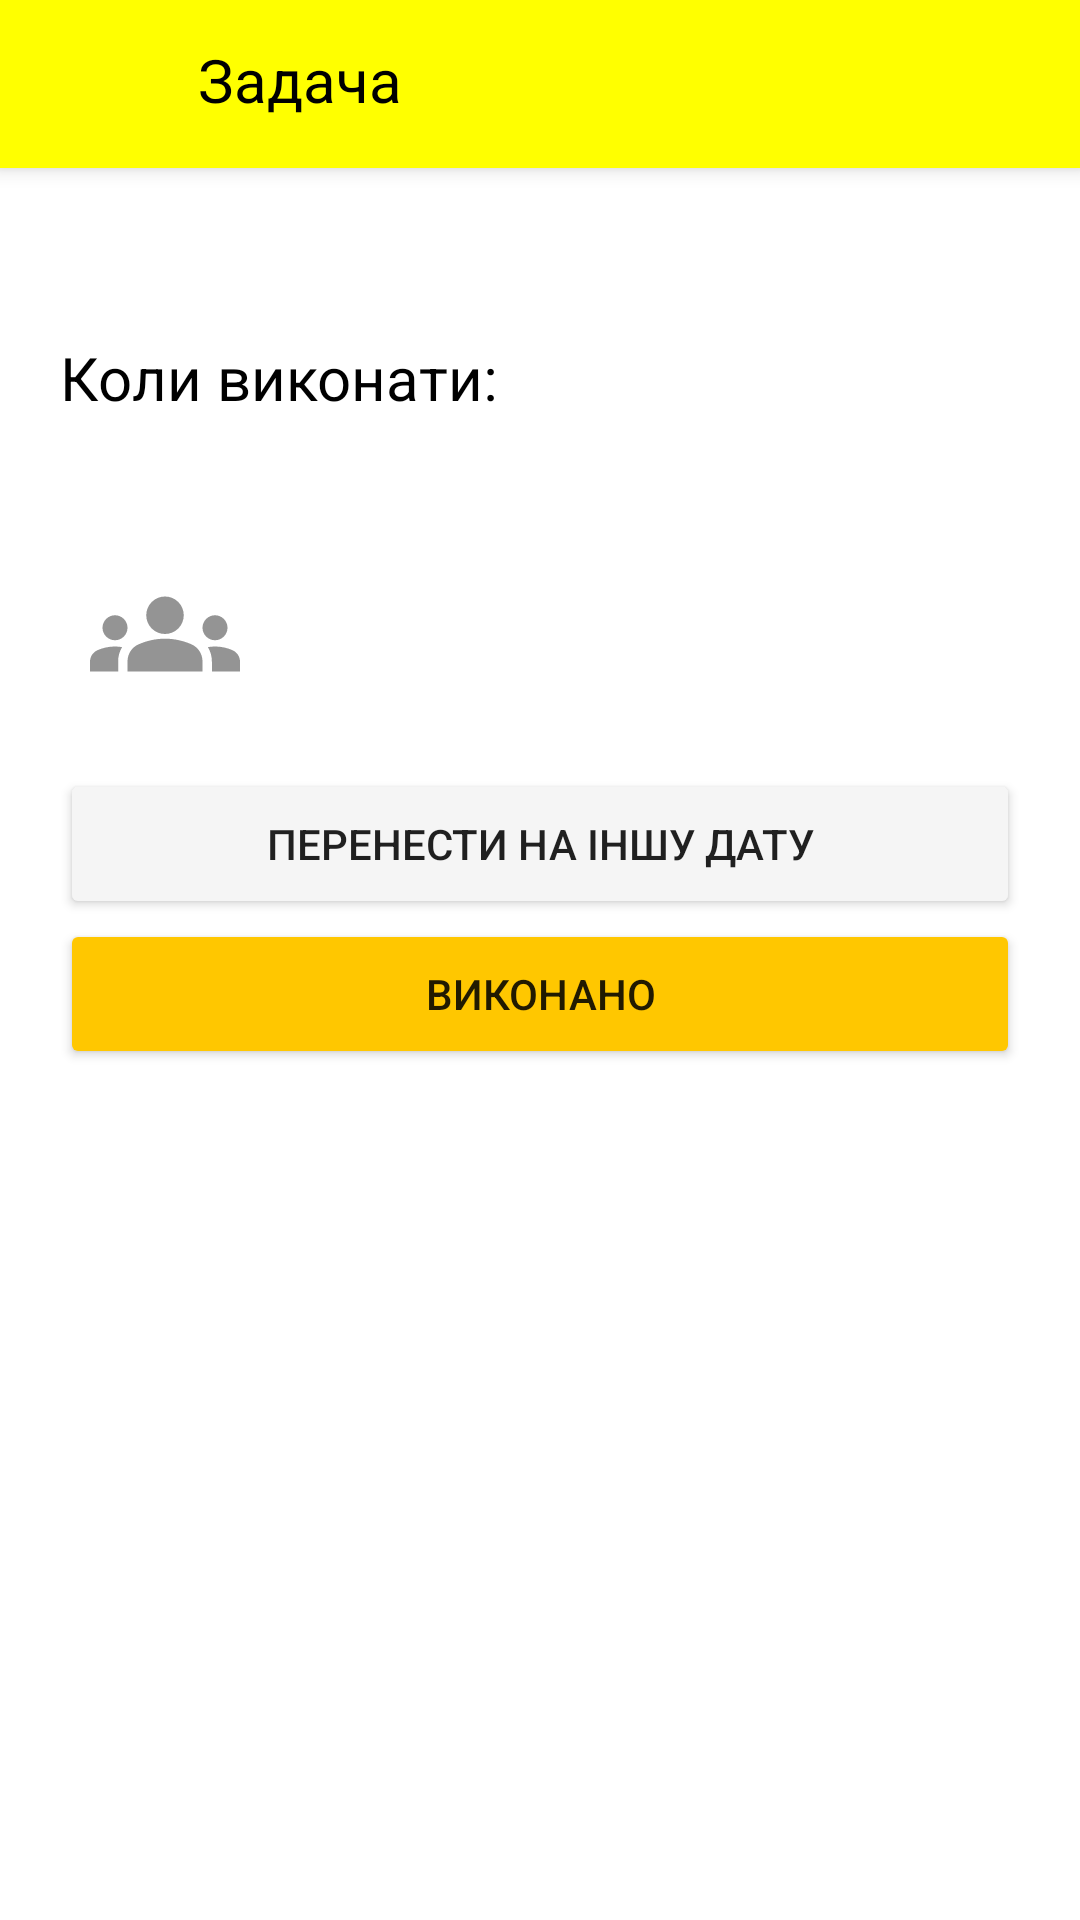

Point at icon controls on the screen. Image size 1080 × 1920, points as (x=x, y=y).
groups: (x=165, y=634)
